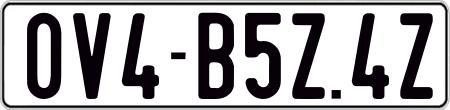0: (26, 11, 63, 99)
4: (350, 10, 392, 102), (121, 13, 162, 105)
5: (244, 11, 286, 103)
B: (195, 12, 236, 103)
V: (73, 10, 117, 99)
Z: (289, 12, 327, 98), (399, 10, 434, 96)
